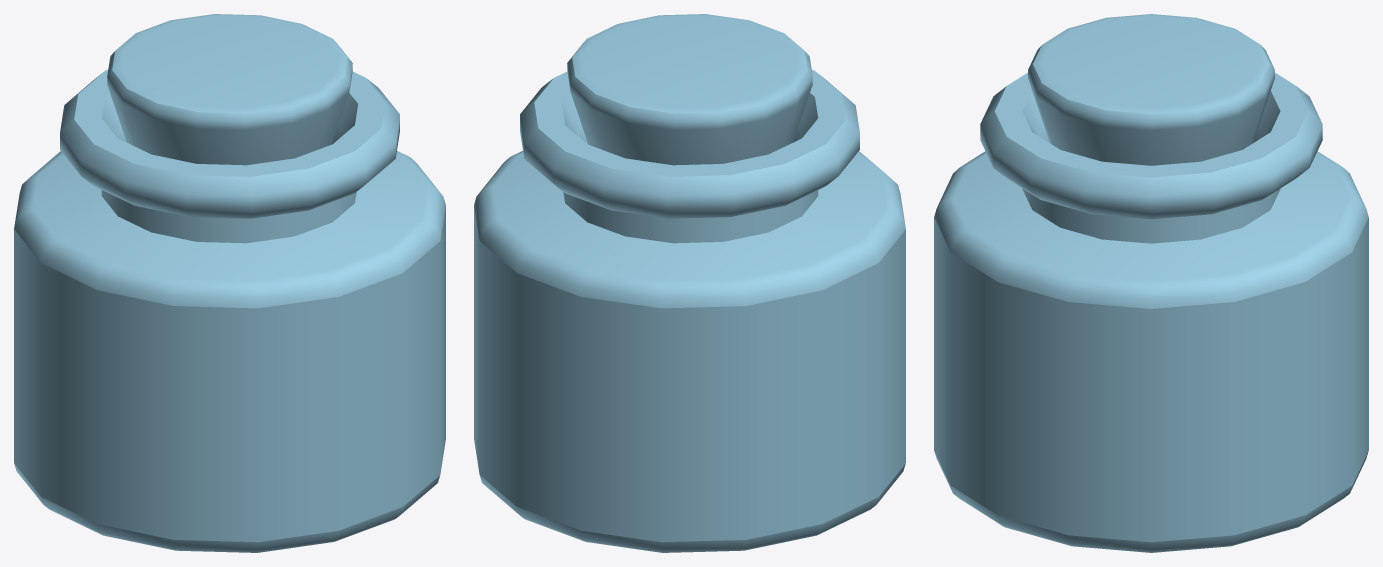
Rendered from Bottle_low.fbx.
3 renders of one model, left to right at view 1: azimuth 30°, elevation 25°; view 2: azimuth 150°, elevation 25°; view 3: azimuth 270°, elevation 25°, orthographic.
Parts seen in each view (by area): view 1: Bottle_low; view 2: Bottle_low; view 3: Bottle_low.
Part boxes in pixels (x1,y1,x2,y2): Bottle_low: (14, 14, 445, 552); Bottle_low: (474, 14, 905, 552); Bottle_low: (934, 14, 1368, 552).
Size of the model in its own units: 110 by 113 by 110.
